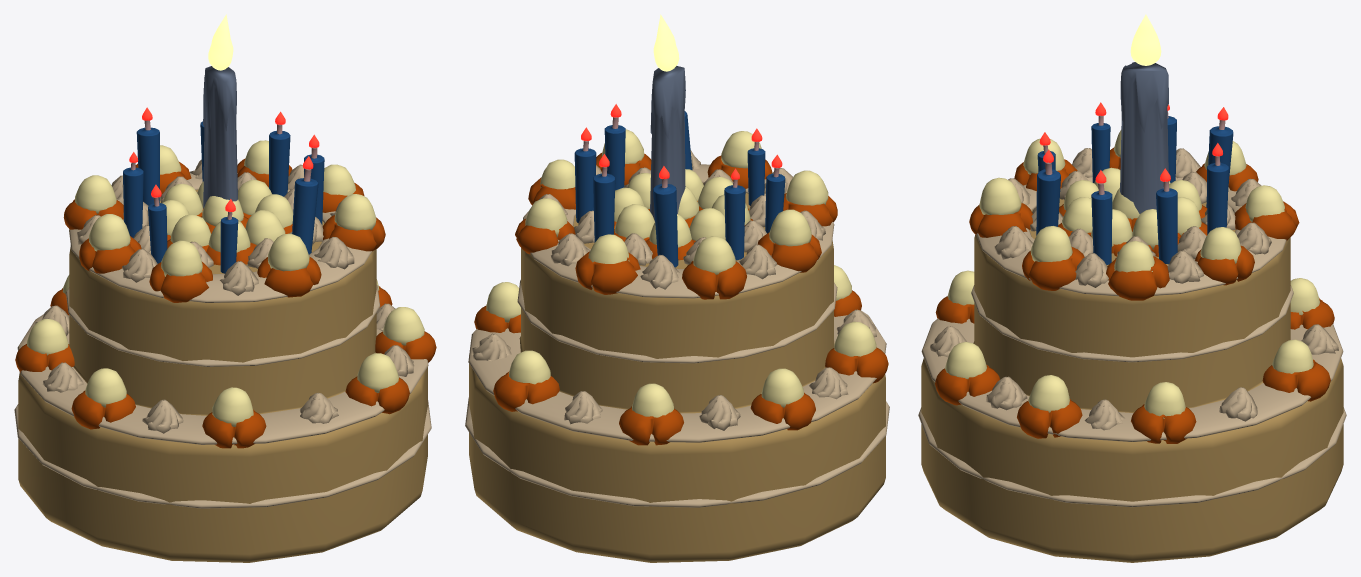
Rendered from spookycake.glb.
3 views of the same model, side by side, from view 1: azimuth 30°, elevation 25°; view 2: azimuth 150°, elevation 25°; view 3: azimuth 270°, elevation 25° (orthographic). The views are drawn at different scales.
Parts seen in each view (by area): view 1: pCylinder67, pTorus5, candle, pTorus6, pTorus9, pTorus8, pCylinder76, pCylinder83, pCylinder99, pCylinder75, pCylinder95, pCylinder84 (+38 smaller); view 2: pCylinder67, pTorus5, candle, pTorus9, pTorus6, pTorus8, pCylinder71, pCylinder95, pCylinder70, pCylinder78, pCylinder79, pCylinder85 (+39 smaller); view 3: pCylinder67, pTorus5, candle, pTorus9, pTorus6, pTorus8, pCylinder73, pCylinder80, pCylinder81, pCylinder79, pCylinder74, pCylinder97 (+41 smaller).
Boxes of the visible parts, bbox=[...] form: pCylinder67: bbox=[18, 189, 427, 562]; pTorus5: bbox=[17, 314, 428, 444]; candle: bbox=[203, 66, 237, 208]; pTorus6: bbox=[69, 172, 372, 302]; pTorus9: bbox=[14, 400, 431, 508]; pTorus8: bbox=[66, 285, 380, 366]; pCylinder76: bbox=[149, 262, 212, 302]; pCylinder83: bbox=[202, 409, 266, 448]; pCylinder99: bbox=[292, 169, 318, 254]; pCylinder75: bbox=[257, 257, 321, 297]; pCylinder95: bbox=[136, 120, 159, 205]; pCylinder84: bbox=[71, 390, 135, 429]; pCylinder67: bbox=[469, 183, 885, 562]; pTorus5: bbox=[468, 310, 886, 442]; candle: bbox=[650, 66, 685, 221]; pTorus9: bbox=[465, 397, 889, 507]; pTorus6: bbox=[523, 164, 834, 298]; pTorus8: bbox=[517, 280, 837, 363]; pCylinder71: bbox=[575, 251, 640, 294]; pCylinder95: bbox=[653, 178, 678, 267]; pCylinder70: bbox=[682, 261, 746, 299]; pCylinder78: bbox=[619, 406, 683, 445]; pCylinder79: bbox=[493, 371, 559, 411]; pCylinder85: bbox=[750, 392, 815, 430]; pCylinder67: bbox=[921, 199, 1343, 562]; pTorus5: bbox=[921, 318, 1343, 441]; candle: bbox=[1120, 62, 1168, 213]; pTorus9: bbox=[918, 407, 1346, 507]; pTorus6: bbox=[976, 174, 1286, 296]; pTorus8: bbox=[971, 285, 1293, 362]; pCylinder73: bbox=[1106, 256, 1169, 300]; pCylinder80: bbox=[1131, 404, 1196, 443]; pCylinder81: bbox=[1017, 399, 1082, 438]; pCylinder79: bbox=[1262, 359, 1330, 401]; pCylinder74: bbox=[1022, 246, 1084, 290]; pCylinder97: bbox=[1156, 181, 1177, 264].
Size of the model in its own units: 0.0609 by 0.0737 by 0.0609.
